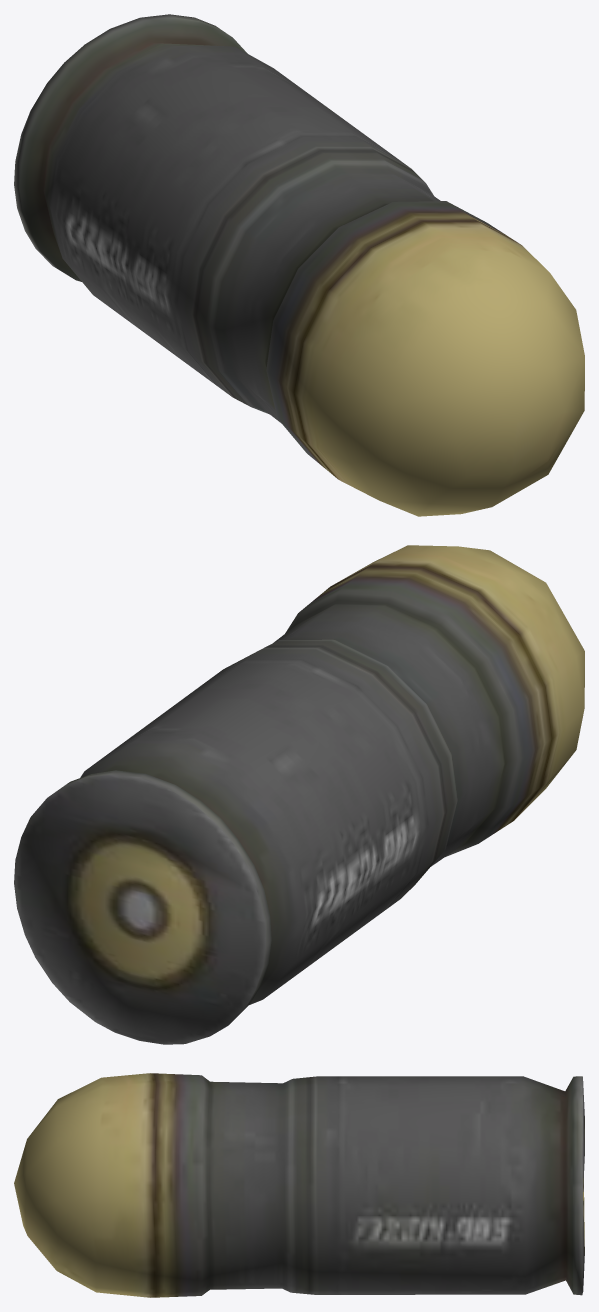
Rendered from glammo.glb.
3 renders of one model, top to bottom at view 1: azimuth 30°, elevation 25°; view 2: azimuth 150°, elevation 25°; view 3: azimuth 270°, elevation 25°, orthographic. The views are drawn at different scales.
Parts seen in each view (by area): view 1: GLAmmo; view 2: GLAmmo; view 3: GLAmmo.
Part boxes in pixels (x1,y1,x2,y2): GLAmmo: (14,14,584,516); GLAmmo: (14,545,584,1044); GLAmmo: (14,1073,584,1297).
Size of the model in its own units: 0.0514 by 0.0512 by 0.1304.
1 material, 1 textured.
